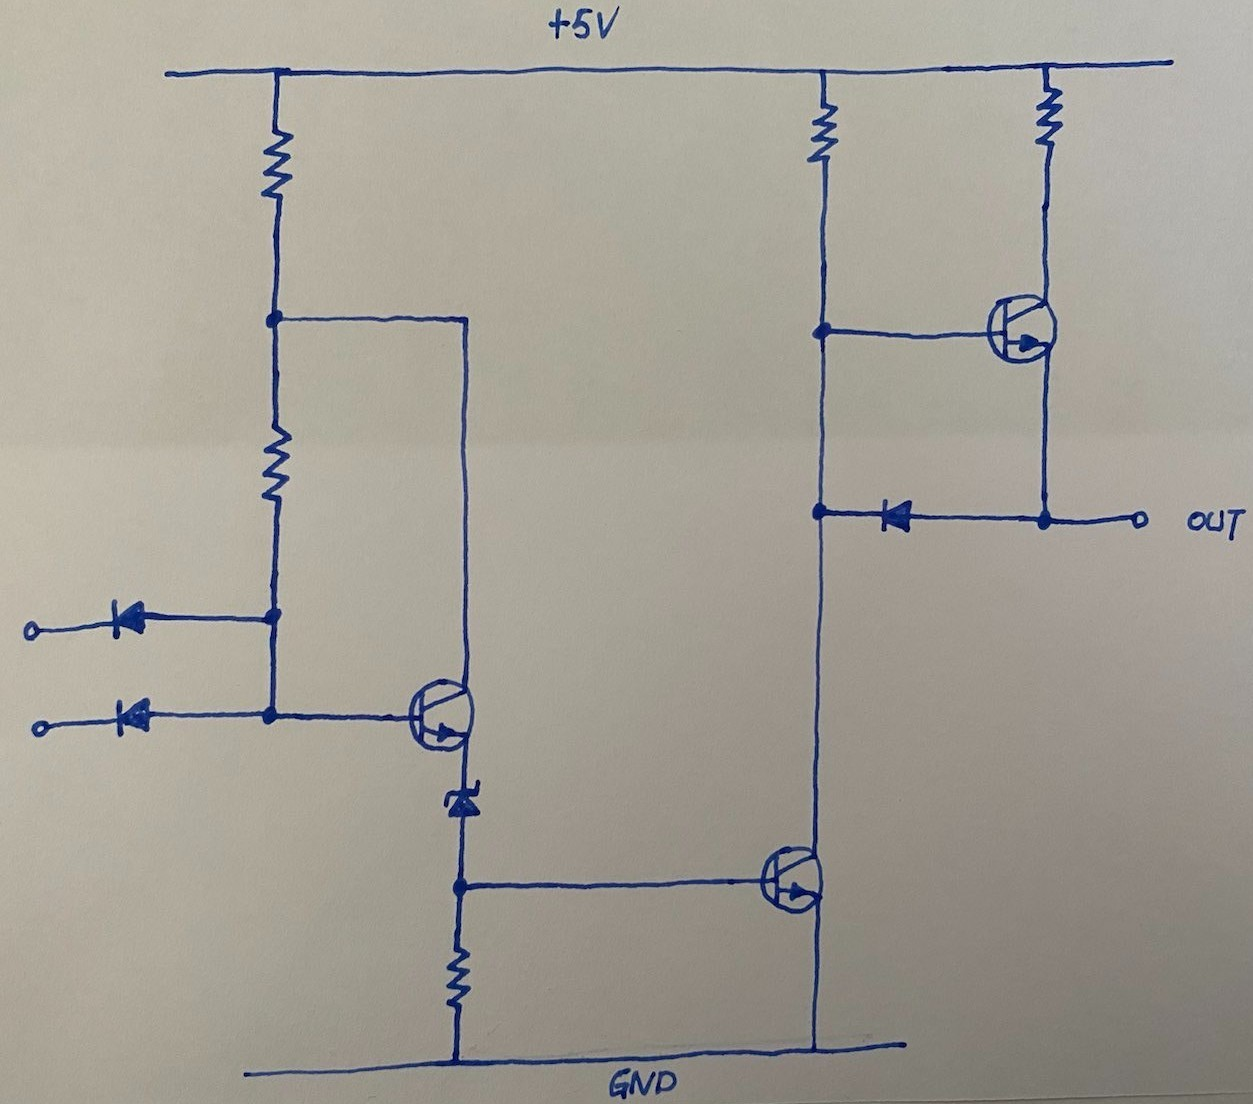diode: (100, 688, 162, 745), (95, 590, 158, 644), (867, 491, 925, 543), (437, 776, 497, 824)
junction: (437, 1041, 478, 1077), (250, 601, 289, 633), (443, 868, 475, 906), (1021, 504, 1059, 534), (261, 303, 294, 337), (802, 492, 834, 527), (808, 313, 837, 350), (255, 697, 286, 730), (444, 306, 476, 335), (805, 61, 839, 85), (802, 1033, 825, 1068), (1032, 54, 1064, 79), (266, 56, 293, 85)
resistor: (257, 121, 295, 212), (258, 422, 297, 507), (804, 96, 842, 168), (442, 944, 477, 1016), (1034, 85, 1064, 155)
terminal: (15, 612, 70, 649), (1112, 501, 1165, 534), (144, 55, 195, 86), (230, 1064, 287, 1089), (1139, 52, 1193, 78), (25, 713, 69, 743), (875, 1028, 920, 1056)
text: (544, 2, 629, 46), (601, 1066, 680, 1102), (1181, 504, 1247, 542)
transistor: (982, 289, 1062, 369), (402, 677, 481, 756), (756, 840, 833, 918)
